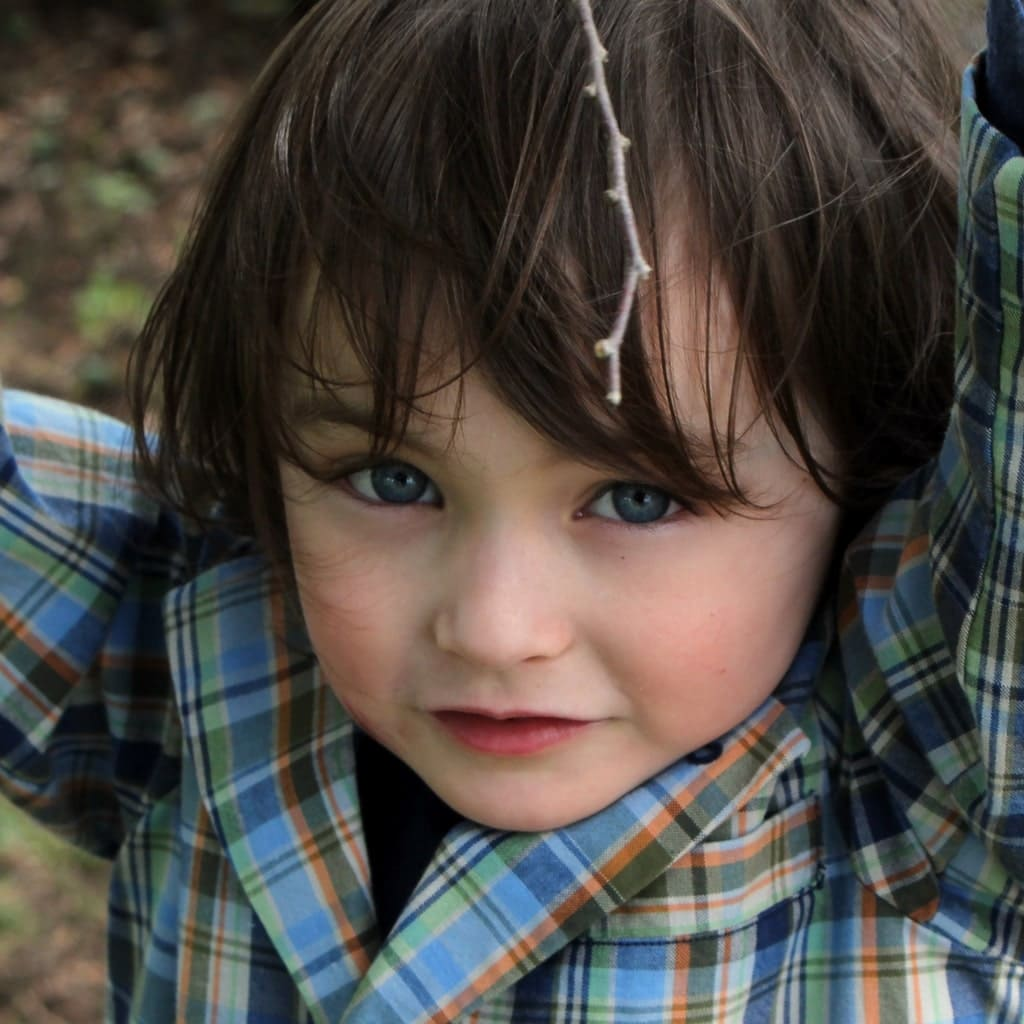without_mask: (296, 295, 776, 759)
